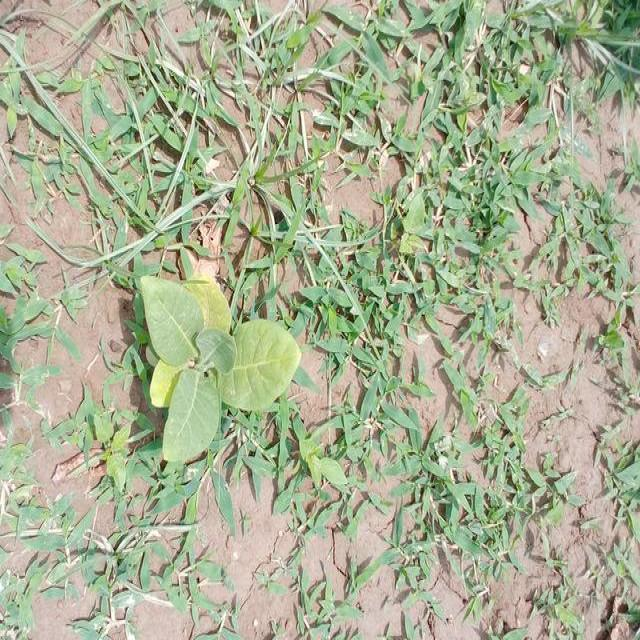crop: (138, 267, 300, 464)
